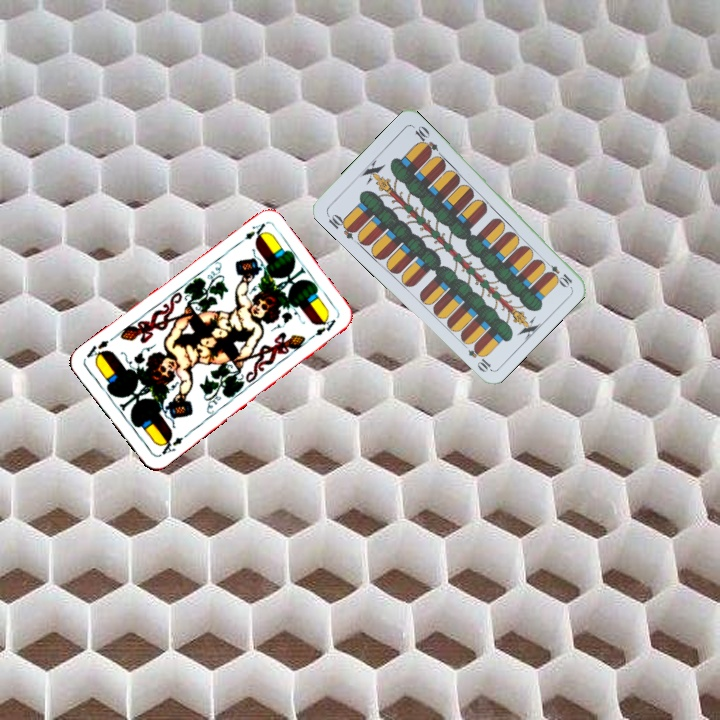E10: (323, 210, 359, 242), (540, 257, 575, 289)
EA: (233, 219, 268, 248), (155, 432, 186, 458)
